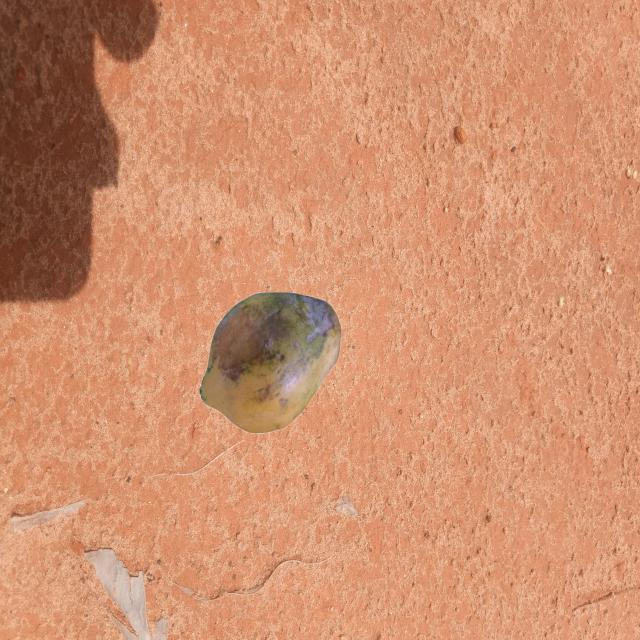Pepaya rippen: (183, 289, 355, 441)
